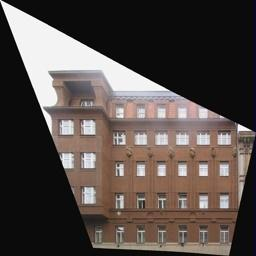building: (40, 67, 239, 256)
